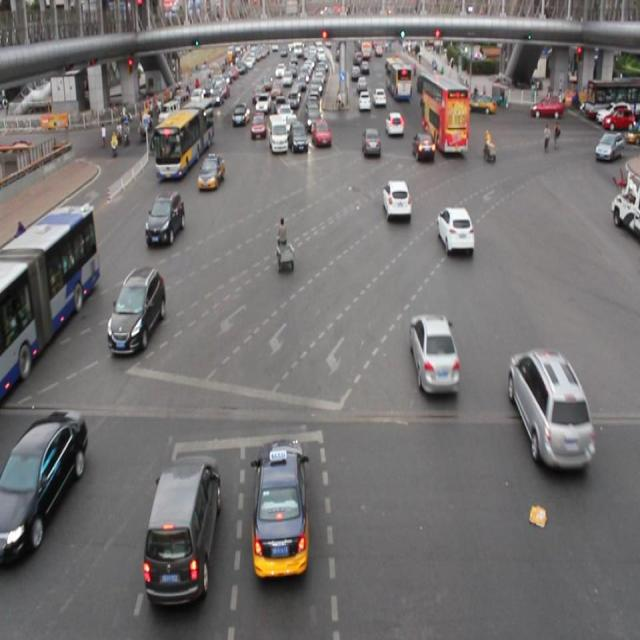car: (1, 410, 81, 556), (508, 347, 591, 468), (253, 436, 310, 579), (109, 265, 164, 354), (410, 312, 459, 396), (146, 190, 184, 249), (436, 206, 473, 254), (381, 176, 412, 222), (198, 153, 224, 188), (410, 130, 434, 162), (288, 120, 308, 155), (360, 126, 380, 158), (311, 116, 331, 147), (249, 113, 266, 141), (384, 112, 403, 136)
truck: (145, 450, 219, 604), (267, 113, 288, 154)
van: (1, 205, 93, 395), (156, 98, 212, 176), (419, 73, 468, 153)
